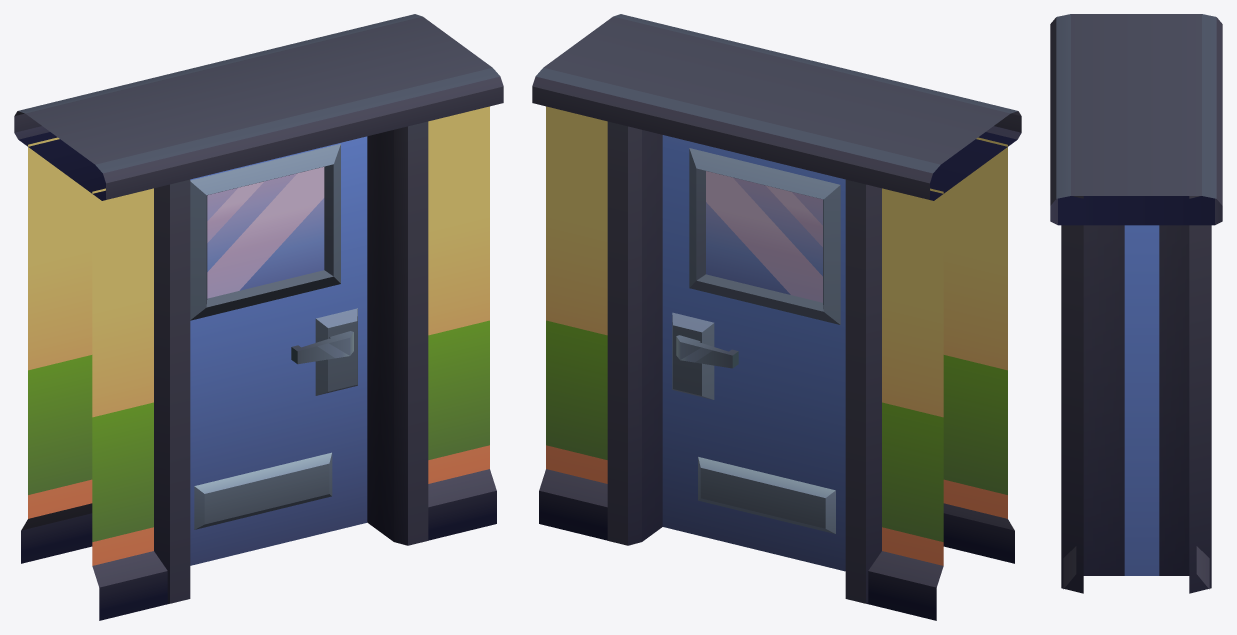
Rendered from door_b.fbx.
The picture shows the model from 3 angles, left to right: view 1: azimuth 30°, elevation 25°; view 2: azimuth 150°, elevation 25°; view 3: azimuth 270°, elevation 25°; orthographic projection. The views are drawn at different scales.
Parts seen in each view (by area): view 1: door_generic_frame1, door_generic1; view 2: door_generic_frame1, door_generic1; view 3: door_generic_frame1, door_generic1.
Boxes of the visible parts, bbox=[...] form: door_generic_frame1: bbox=[14, 14, 503, 620]; door_generic1: bbox=[190, 136, 367, 565]; door_generic_frame1: bbox=[532, 14, 1021, 620]; door_generic1: bbox=[662, 135, 845, 571]; door_generic_frame1: bbox=[1050, 14, 1222, 593]; door_generic1: bbox=[1124, 225, 1159, 575].
Size of the model in its own units: 184 by 200 by 73.48.
